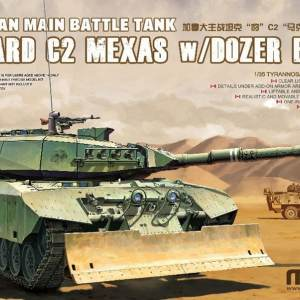Battle Tank: (1, 108, 300, 288)
